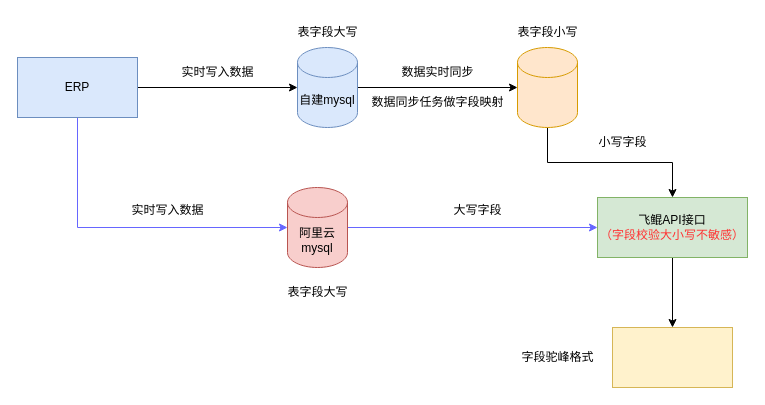
This 765x405 diagram has some shape labels left out. The shapes that lost their labels are listed below. From the top down, each one's centre as x and y in pixels, then its label:
At pixel 547 87: "holo".
At pixel 672 357: "下游系统".
